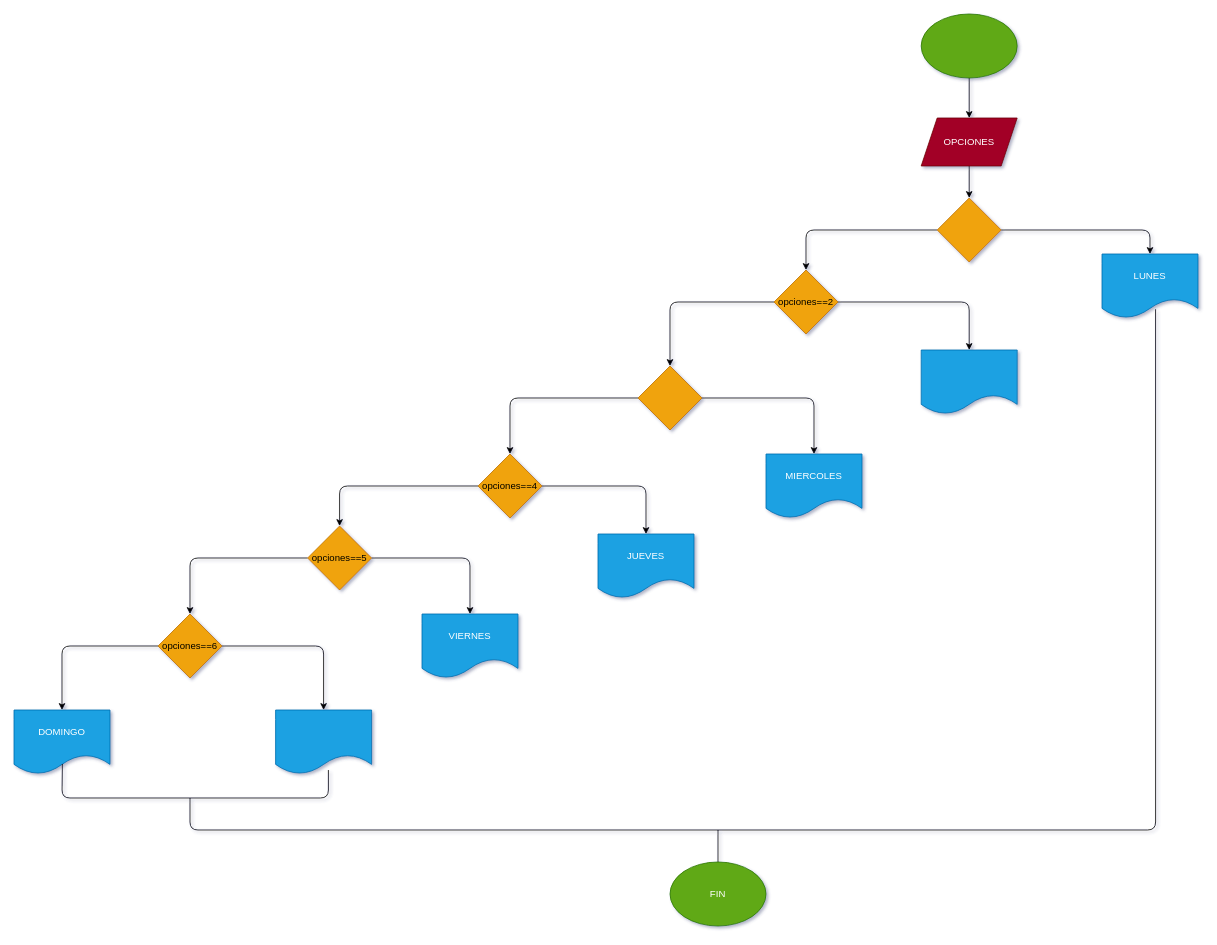
The diagram is 1217 pixels wide and 945 high, and some of its shapes have lost their labels. Each missing label, with the centre of its shape:
INICIO: (968,45)
MARTES: (968,381)
opciones==1: (968,229)
opciones==3: (669,397)
SABADO: (323,741)
